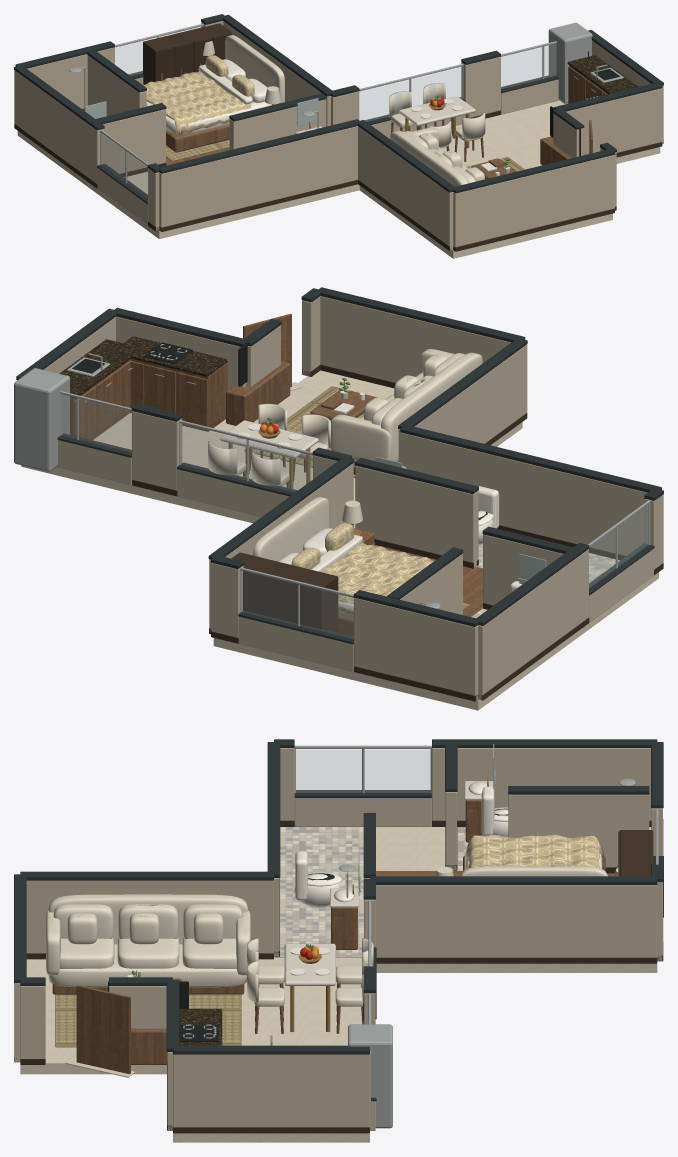
The model's file is aristo-10.glb.
3 views of the same model, one above another, from view 1: azimuth 30°, elevation 25°; view 2: azimuth 150°, elevation 25°; view 3: azimuth 270°, elevation 25° (orthographic). The views are drawn at different scales.
Visible parts, largest first — view 1: Ivory masonry.007, Ivory masonry.009, Apartment foundation, Ivory masonry.008, Ivory masonry.005, Ivory masonry.012, Soft jacquard duvet with folds.003, Ivory masonry.015, Cutaway window glazing.002, Ivory masonry.016, Brushed refrigerator, Ivory masonry.014 (+50 smaller); view 2: Ivory masonry.007, Apartment foundation, Ivory masonry.009, Ivory masonry.004, Ivory masonry.016, Ivory masonry.005, Ivory masonry.008, Dark fitted wardrobe, Brushed refrigerator, Cutaway window glazing, Cutaway window glazing.002, Soft jacquard duvet with folds.003 (+55 smaller); view 3: Ivory masonry.002, Apartment foundation, Ivory masonry.013, Ivory masonry.005, Ivory masonry.008, Ivory masonry.014, Cutaway window glazing.003, Open walnut door leaf, Bathroom 2 · mosaic.001, Soft jacquard duvet with folds.003, Window sill.003, Sofa lower upholstered frame.001 (+46 smaller).
Part boxes in pixels (bbox=[...]): Ivory masonry.007: bbox=[159, 126, 357, 231]; Ivory masonry.009: bbox=[453, 155, 614, 247]; Apartment foundation: bbox=[17, 100, 660, 258]; Ivory masonry.008: bbox=[358, 126, 453, 250]; Ivory masonry.005: bbox=[14, 70, 104, 183]; Ivory masonry.012: bbox=[566, 88, 661, 154]; Soft jacquard duvet with folds.003: bbox=[143, 71, 251, 134]; Ivory masonry.015: bbox=[103, 109, 165, 173]; Cutaway window glazing.002: bbox=[359, 67, 462, 121]; Ivory masonry.016: bbox=[229, 99, 326, 149]; Brushed refrigerator: bbox=[548, 22, 592, 103]; Ivory masonry.014: bbox=[87, 55, 146, 116]; Ivory masonry.007: bbox=[400, 432, 647, 555]; Apartment foundation: bbox=[21, 370, 658, 710]; Ivory masonry.009: bbox=[320, 296, 510, 382]; Ivory masonry.004: bbox=[354, 597, 478, 700]; Ivory masonry.016: bbox=[355, 465, 478, 567]; Ivory masonry.005: bbox=[478, 549, 588, 700]; Ivory masonry.008: bbox=[398, 344, 527, 462]; Dark fitted wardrobe: bbox=[231, 552, 337, 631]; Brushed refrigerator: bbox=[14, 368, 69, 471]; Cutaway window glazing: bbox=[242, 571, 353, 638]; Cutaway window glazing.002: bbox=[181, 424, 312, 492]; Soft jacquard duvet with folds.003: bbox=[322, 542, 434, 615]; Ivory masonry.002: bbox=[375, 885, 657, 957]; Apartment foundation: bbox=[20, 827, 657, 1142]; Ivory masonry.013: bbox=[173, 1054, 369, 1127]; Ivory masonry.005: bbox=[432, 748, 651, 820]; Ivory masonry.008: bbox=[26, 880, 273, 953]; Ivory masonry.014: bbox=[508, 794, 649, 867]; Cutaway window glazing.003: bbox=[296, 749, 430, 792]; Open walnut door leaf: bbox=[76, 985, 130, 1074]; Bathroom 2 · mosaic.001: bbox=[280, 827, 363, 947]; Soft jacquard duvet with folds.003: bbox=[465, 834, 603, 869]; Window sill.003: bbox=[294, 797, 431, 826]; Sofa lower upholstered frame.001: bbox=[48, 944, 246, 987].
Size of the model in its own units: 9.31 by 1.37 by 8.2.
Materials: 24 (6 with a texture image).
